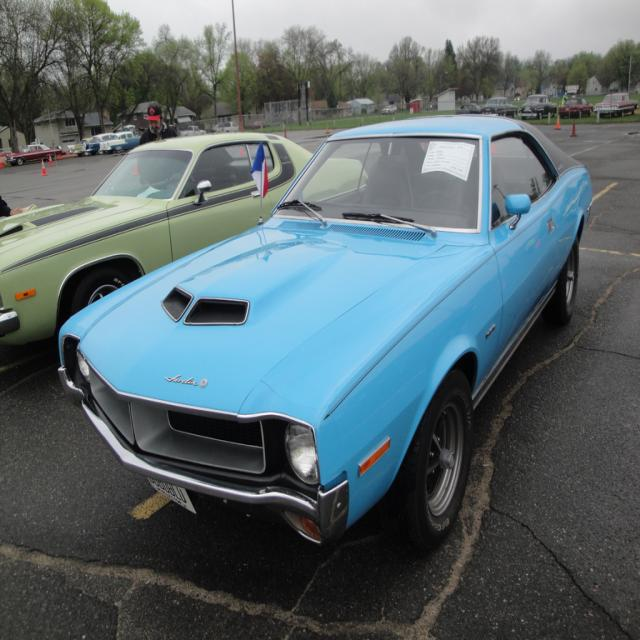car: (50, 109, 596, 549)
